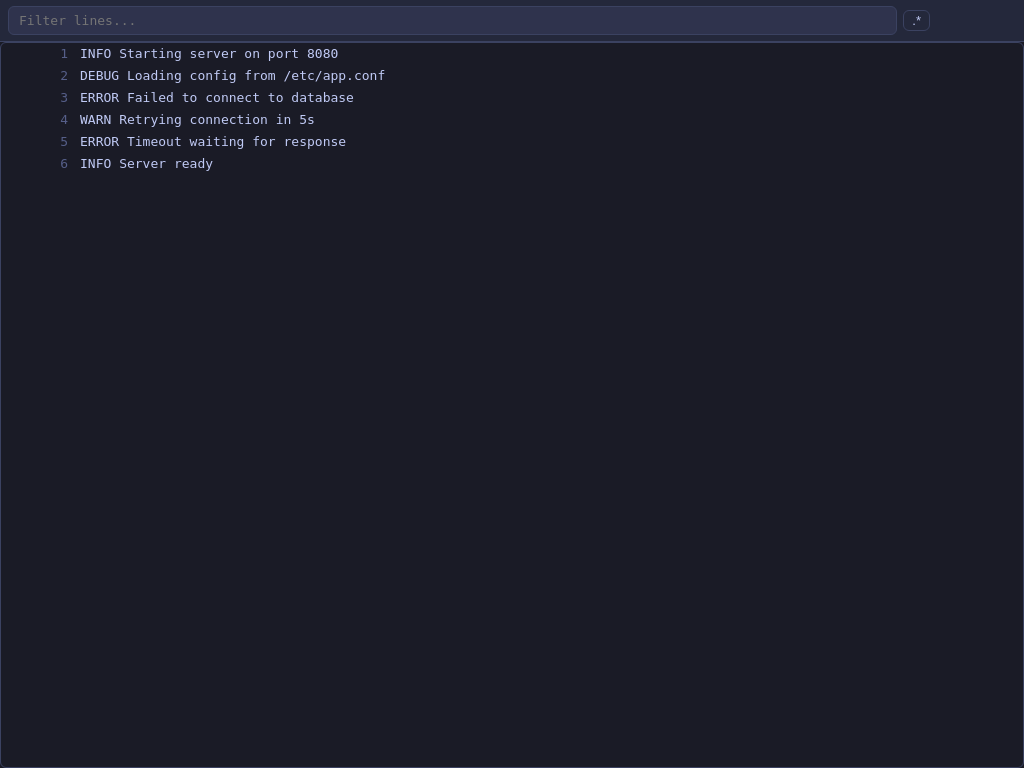
LogViewer Search › shows match count for plain text search
Press f
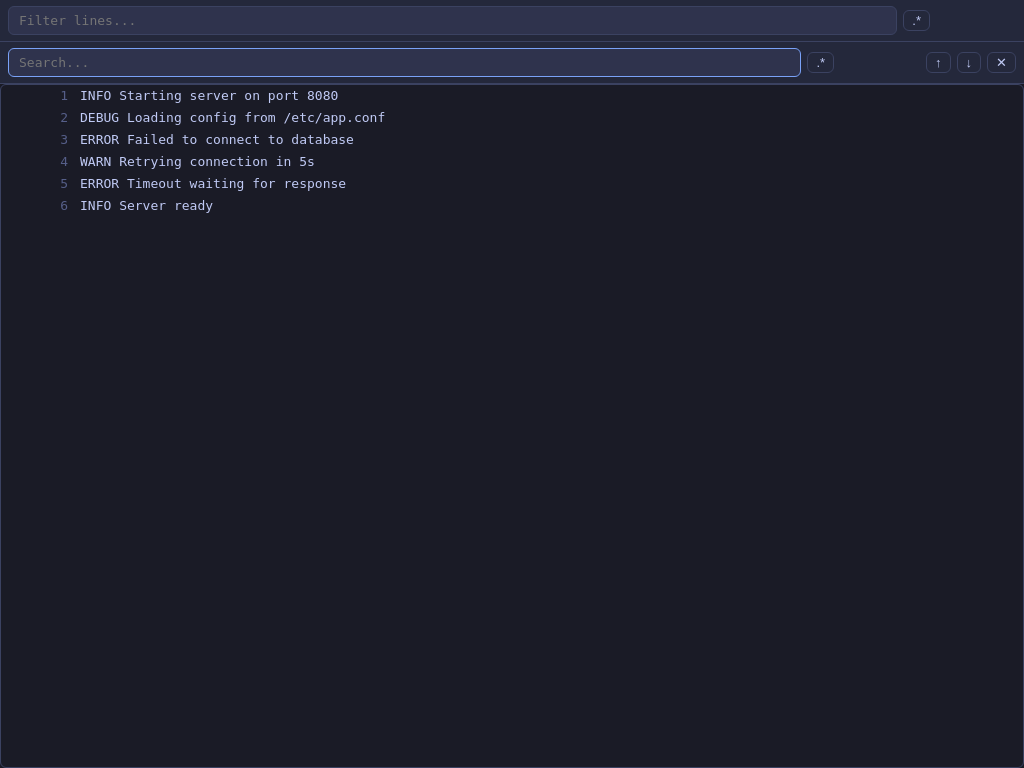
Type "ERROR" into the field with placeholder "Search...".
click(405, 62); type("ERROR")  # box [8,48,801,77]
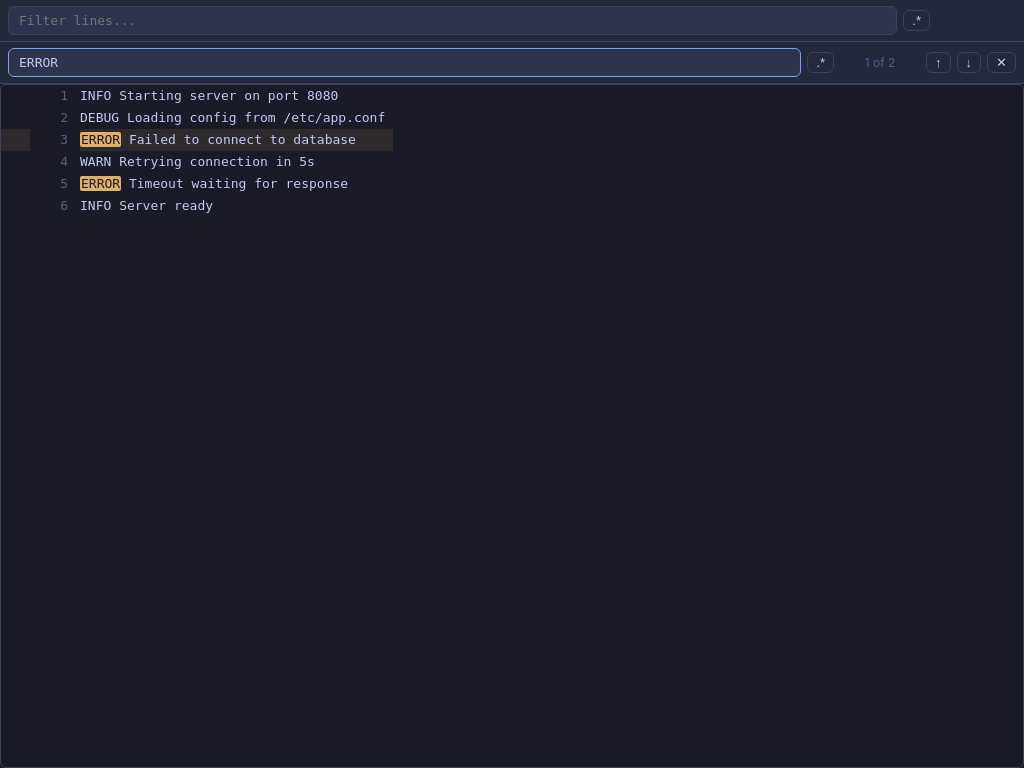
Check: the text "1 of 2" is shown, box [865,54,895,70]
